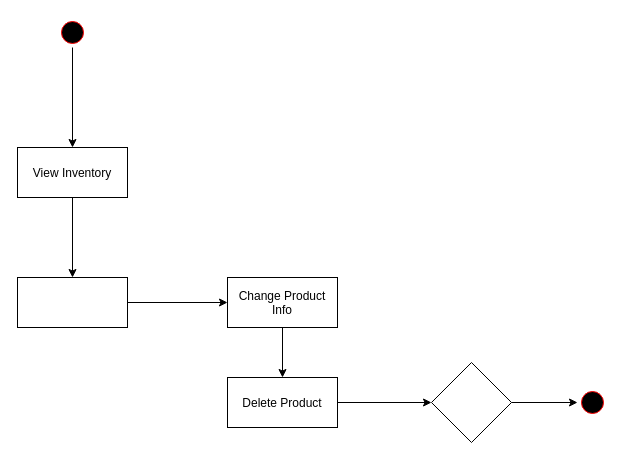
The diagram is 625 pixels wide and 460 high, and some of its shapes have lost their labels. The shapes that lost their labels are listed below. From the top down, each one's box as (x1, y1, x2, y2) in pixels, then its label:
(16, 276, 128, 328): Access Item Info
(430, 362, 512, 442): Confirm Deletion
